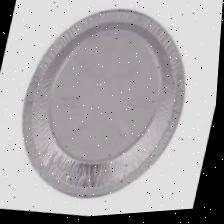metal: (7, 0, 201, 217)
